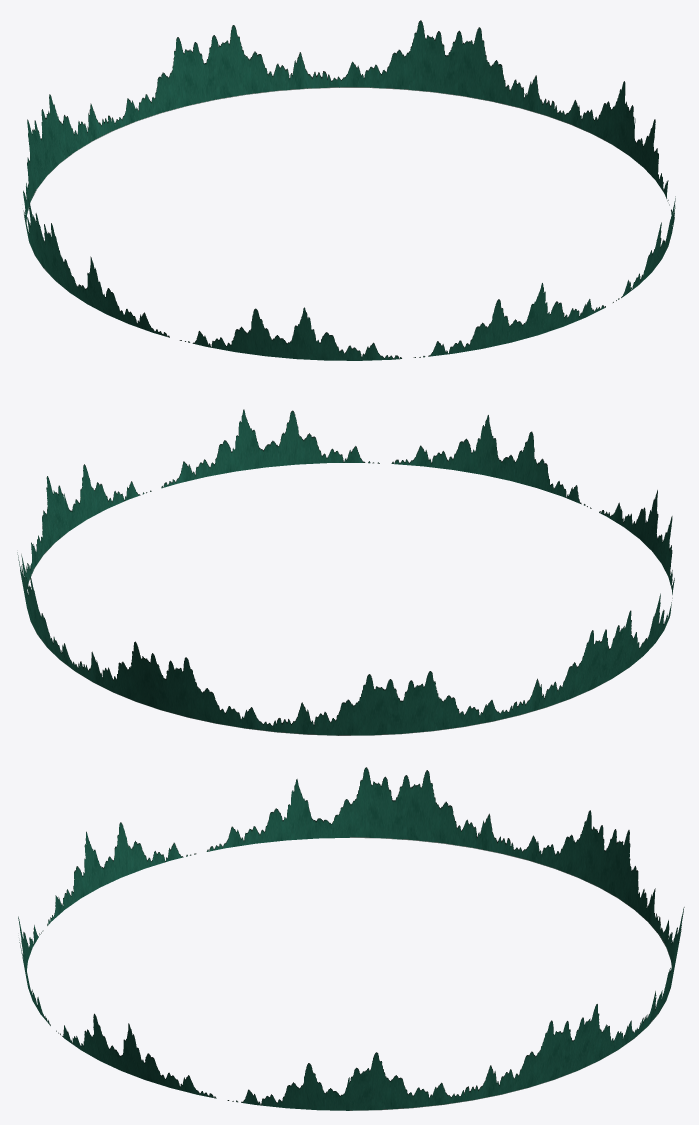
File: TreeRing_02.fbx
The picture shows the model from 3 angles, top to bottom: view 1: azimuth 30°, elevation 25°; view 2: azimuth 150°, elevation 25°; view 3: azimuth 270°, elevation 25°; orthographic projection.
Visible parts, largest first — view 1: TreeRing_02; view 2: TreeRing_02; view 3: TreeRing_02.
Part boxes in pixels (box(x1,y1,x2,y2)): TreeRing_02: box(23, 20, 675, 360); TreeRing_02: box(17, 409, 674, 735); TreeRing_02: box(18, 767, 684, 1110).
Size of the model in its own units: 327 by 327 by 36.79.
